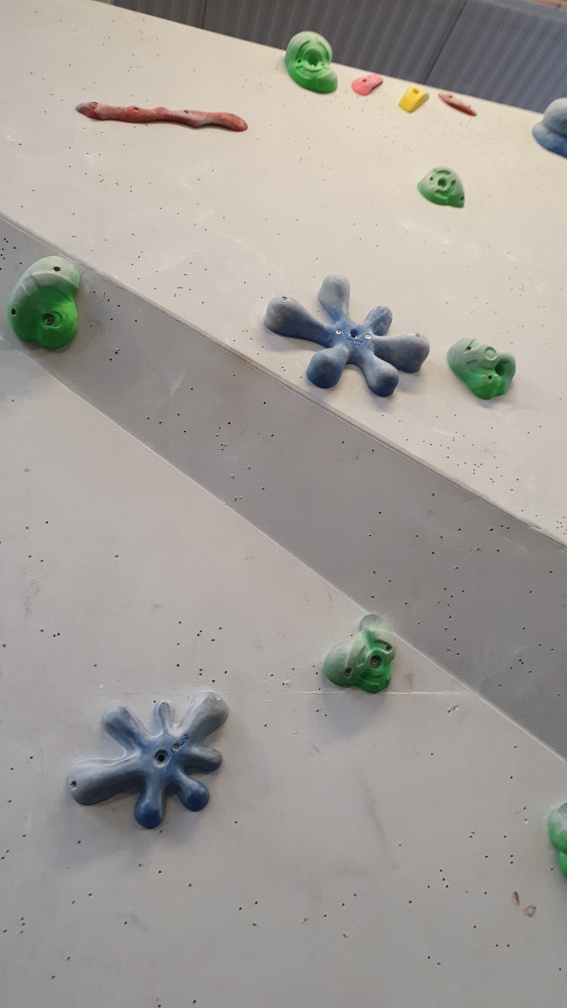Crimp: (350, 68, 383, 100), (433, 89, 472, 113)
Jug: (8, 251, 91, 352), (320, 608, 398, 699), (440, 334, 520, 405), (284, 25, 340, 95), (417, 162, 470, 210)
Octopus Pinch: (70, 683, 232, 831), (263, 269, 433, 396)
Sloper: (525, 87, 567, 160)
